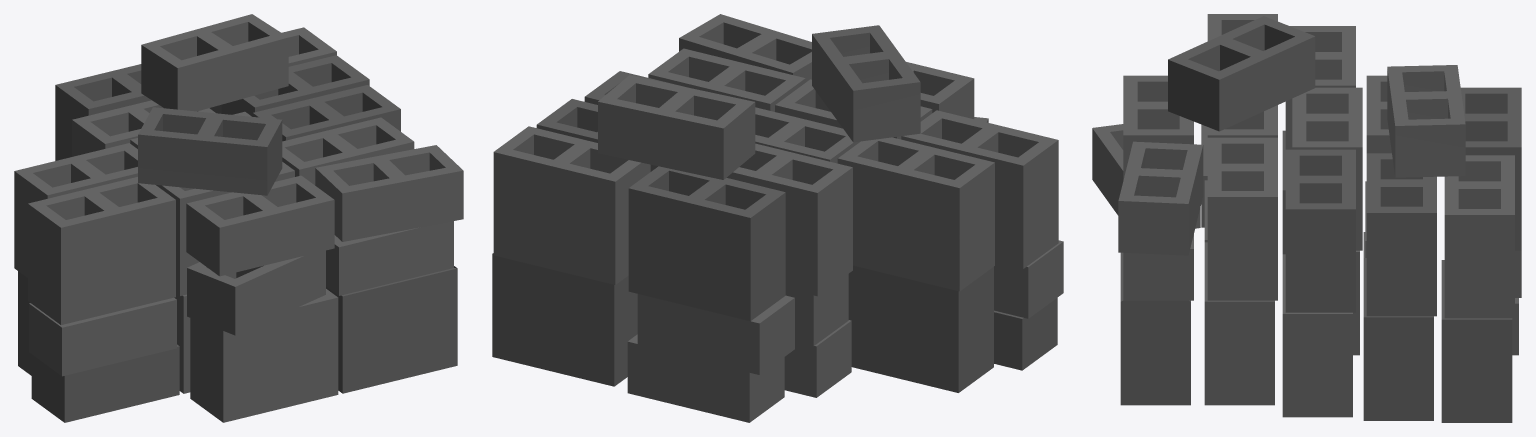
The model's file is Bricks_1_2.fbx.
3 renders of one model, left to right at view 1: azimuth 30°, elevation 25°; view 2: azimuth 150°, elevation 25°; view 3: azimuth 270°, elevation 25°, orthographic. The views are drawn at different scales.
Visible parts, largest first — view 1: Bricks_1_2; view 2: Bricks_1_2; view 3: Bricks_1_2.
Boxes of the visible parts, left/top/right/bottom form: Bricks_1_2: left=14, top=14, right=463, bottom=422; Bricks_1_2: left=492, top=14, right=1063, bottom=422; Bricks_1_2: left=1092, top=14, right=1521, bottom=422.
Bounding box in the file's own units: 119 × 70.91 × 107.
